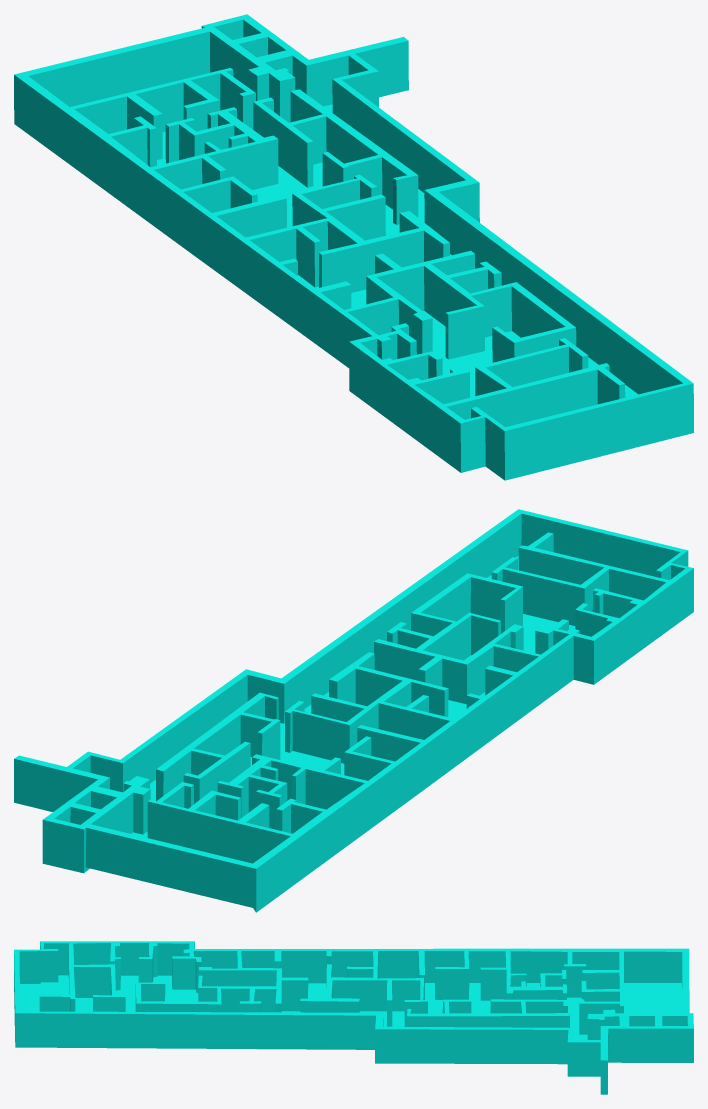
File: example.gltf
The picture shows the model from 3 angles, top to bottom: view 1: azimuth 30°, elevation 25°; view 2: azimuth 150°, elevation 25°; view 3: azimuth 270°, elevation 25°; orthographic projection. The views are drawn at different scales.
Visible parts, largest first — view 1: Plane; view 2: Plane; view 3: Plane.
Part boxes in pixels (x1,y1,x2,y2): Plane: (14,14,693,480); Plane: (14,509,693,912); Plane: (14,941,693,1094).
Bounding box in the file's own units: 0.5799 × 0.0786 × 1.4.
